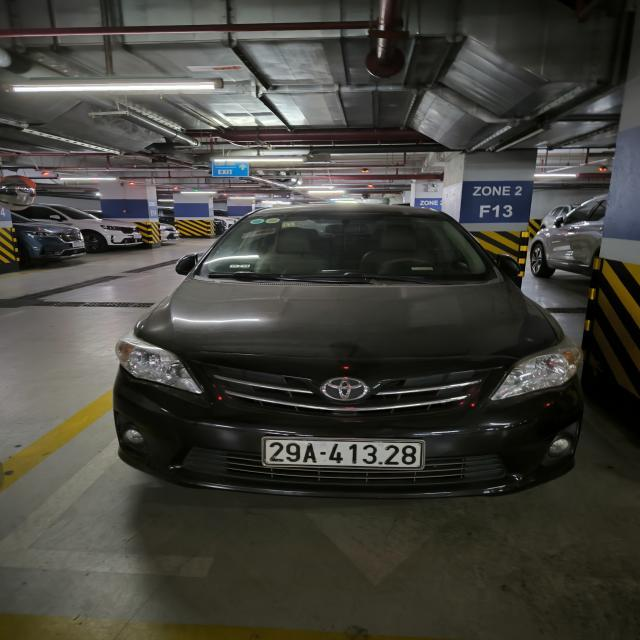license: (260, 435, 425, 470)
